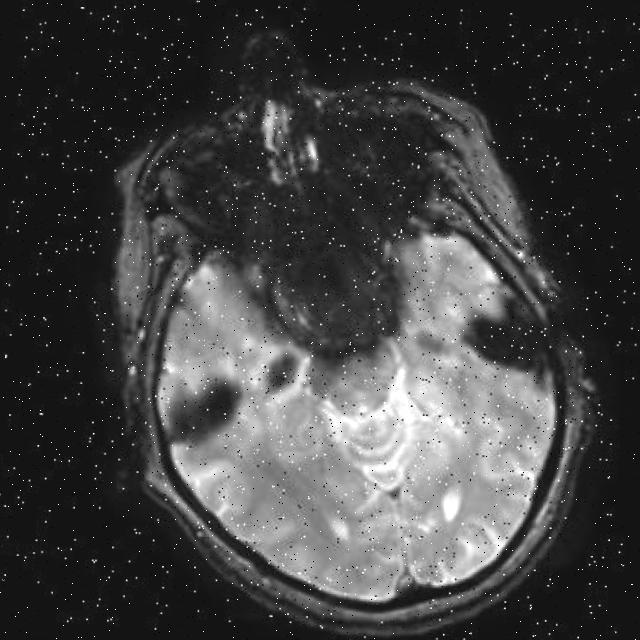CN: (126, 336, 268, 474), (437, 268, 562, 402), (244, 312, 322, 408)
